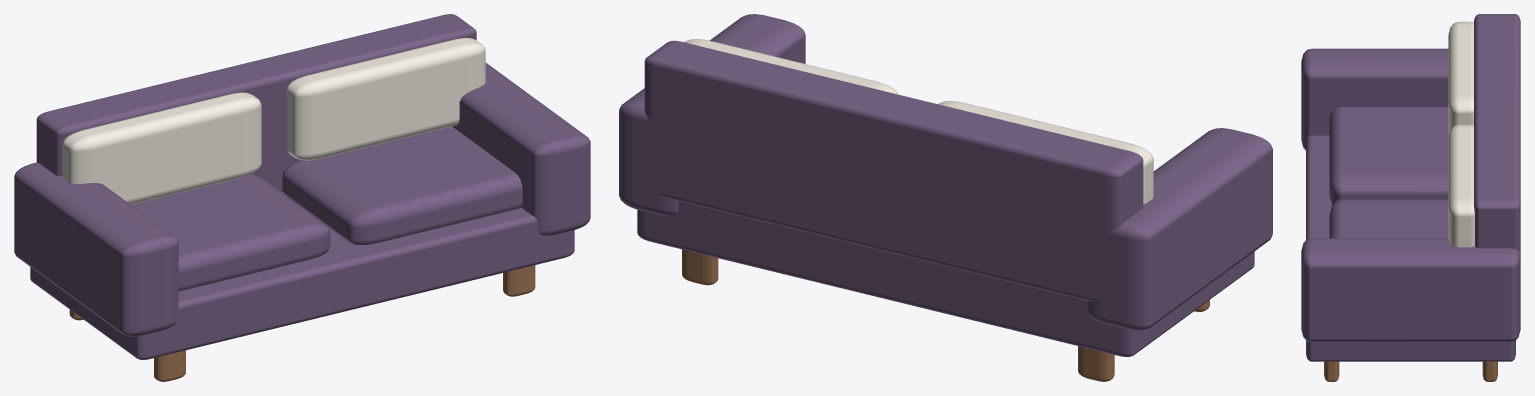
The model's file is sofa-violet.glb.
3 views of the same model, side by side, from view 1: azimuth 30°, elevation 25°; view 2: azimuth 150°, elevation 25°; view 3: azimuth 270°, elevation 25° (orthographic). The views are drawn at different scales.
Size of the model in its own units: 2.1 by 0.86 by 0.9.
